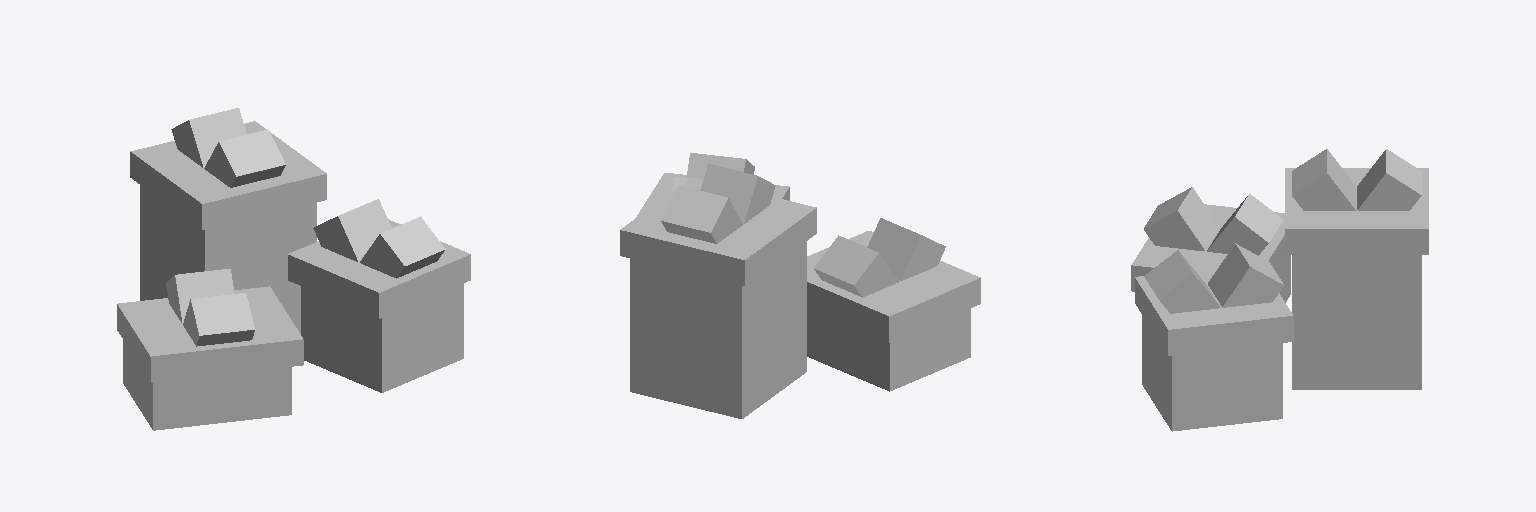
Rendered from 684_presents.obj.
The picture shows the model from 3 angles: view 1: azimuth 30°, elevation 25°; view 2: azimuth 150°, elevation 25°; view 3: azimuth 270°, elevation 25°; orthographic projection.
Parts seen in each view (by area): view 1: Shape2, Shape3, Shape1lid, Shape2lid, Shape1, Shape3lid, Bow2a, Bow3a, Bow1a, Bow3b, Bow2b, Bow1b; view 2: Shape2, Shape2lid, Shape1lid, Shape1, Bow2b, Bow1b, Bow1a, Bow2a, Bow3a, Shape3lid; view 3: Shape2, Shape3, Shape2lid, Shape3lid, Bow3b, Bow1a, Bow2b, Bow2a, Shape1lid, Bow3a, Bow1b.
Part boxes in pixels (x1,y1,x2,y2): Shape2: (140, 185, 316, 333); Shape3: (301, 284, 463, 392); Shape1lid: (117, 286, 303, 382); Shape2lid: (130, 121, 326, 229); Shape1: (123, 340, 291, 430); Shape3lid: (288, 219, 470, 318); Bow2a: (204, 129, 285, 187); Bow3a: (360, 216, 445, 278); Bow1a: (183, 293, 254, 346); Bow3b: (313, 199, 391, 261); Bow2b: (171, 108, 246, 167); Bow1b: (166, 269, 234, 323); Shape2: (630, 241, 806, 418); Shape2lid: (620, 177, 816, 285); Shape1lid: (807, 231, 980, 342); Shape1: (807, 308, 970, 391); Bow2b: (661, 186, 742, 243); Bow1b: (814, 235, 899, 297); Bow1a: (867, 218, 945, 280); Bow2a: (700, 164, 775, 223); Bow3a: (686, 153, 754, 179); Shape3lid: (635, 173, 789, 218); Shape2: (1292, 255, 1421, 389); Shape3: (1142, 315, 1282, 431); Shape2lid: (1285, 168, 1428, 254); Shape3lid: (1135, 267, 1293, 355); Bow3b: (1208, 243, 1283, 307); Bow1a: (1144, 187, 1219, 250); Bow2b: (1357, 149, 1421, 210); Bow2a: (1292, 149, 1355, 210); Shape1lid: (1131, 204, 1287, 291); Bow3a: (1144, 250, 1220, 313); Bow1b: (1207, 193, 1283, 255).
Bounding box in the file's own units: 1.28 × 0.7709 × 1.03.